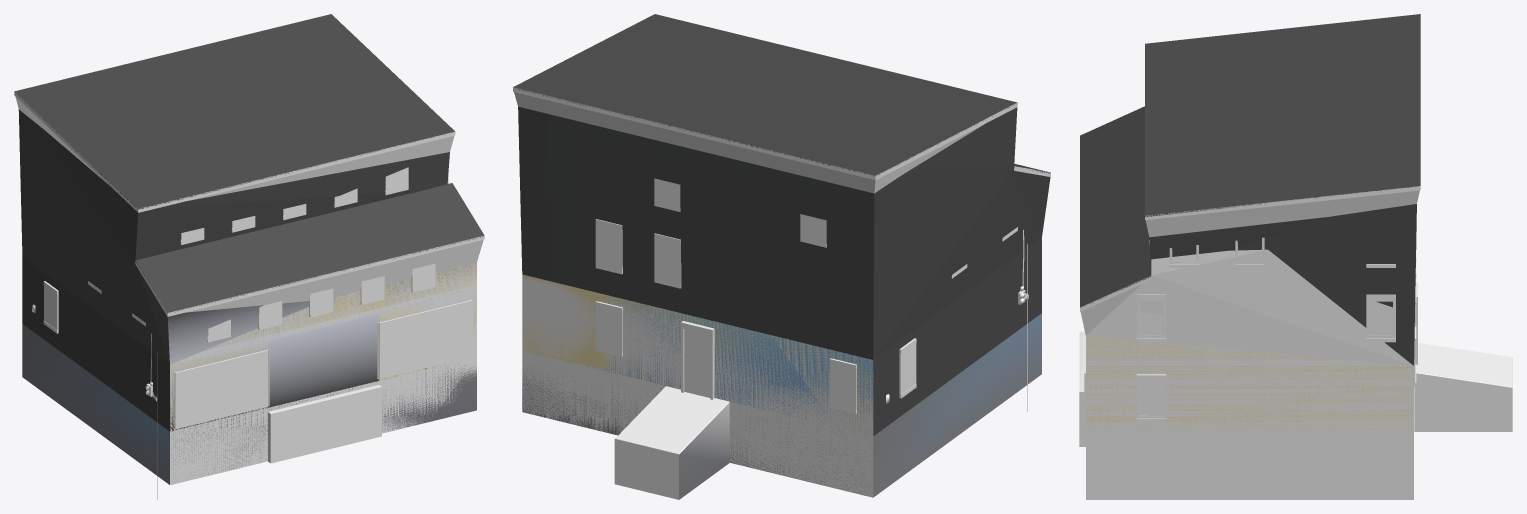
The model's file is eca_bld_shop_town_a.dae.
3 renders of one model, left to right at view 1: azimuth 30°, elevation 25°; view 2: azimuth 150°, elevation 25°; view 3: azimuth 270°, elevation 25°, orthographic. The views are drawn at different scales.
Visible parts, largest first — view 1: eca_bld_shop_town_a_a100, eca_bld_shop_town_a_a15, Colmesh-1, eca_bld_shop_town_a_a550; view 2: eca_bld_shop_town_a_a15, eca_bld_shop_town_a_a100, Colmesh-1, eca_bld_shop_town_a_a550; view 3: Colmesh-1, eca_bld_shop_town_a_a100, eca_bld_shop_town_a_a550, eca_bld_shop_town_a_a15.
Part boxes in pixels (x1,y1,x2,y2): eca_bld_shop_town_a_a100: (14, 14, 484, 482); eca_bld_shop_town_a_a15: (18, 109, 476, 484); Colmesh-1: (15, 96, 483, 485); eca_bld_shop_town_a_a550: (16, 96, 483, 499); eca_bld_shop_town_a_a15: (518, 106, 1050, 499); eca_bld_shop_town_a_a100: (513, 14, 1050, 495); Colmesh-1: (514, 92, 985, 497); eca_bld_shop_town_a_a550: (513, 89, 1050, 499); Colmesh-1: (1079, 190, 1419, 499); eca_bld_shop_town_a_a100: (1080, 14, 1420, 499); eca_bld_shop_town_a_a550: (1080, 186, 1512, 499); eca_bld_shop_town_a_a15: (1149, 204, 1416, 365).
Bounding box in the file's own units: 12.4 × 13.21 × 11.54.
